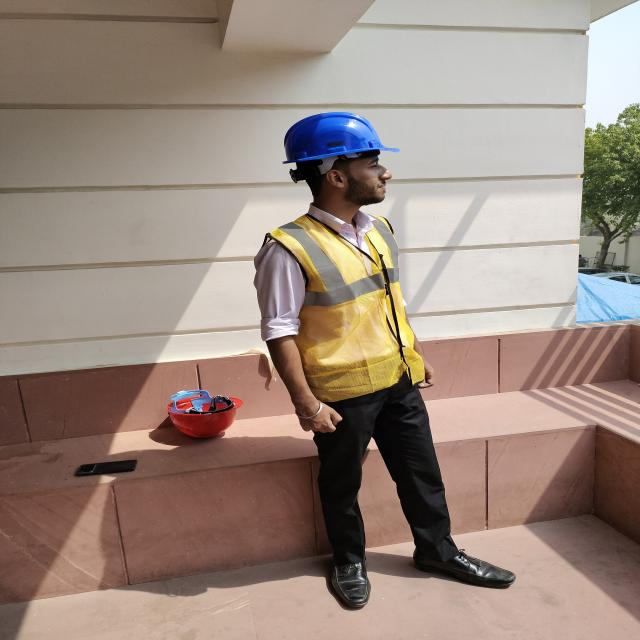safe: (256, 112, 434, 607)
